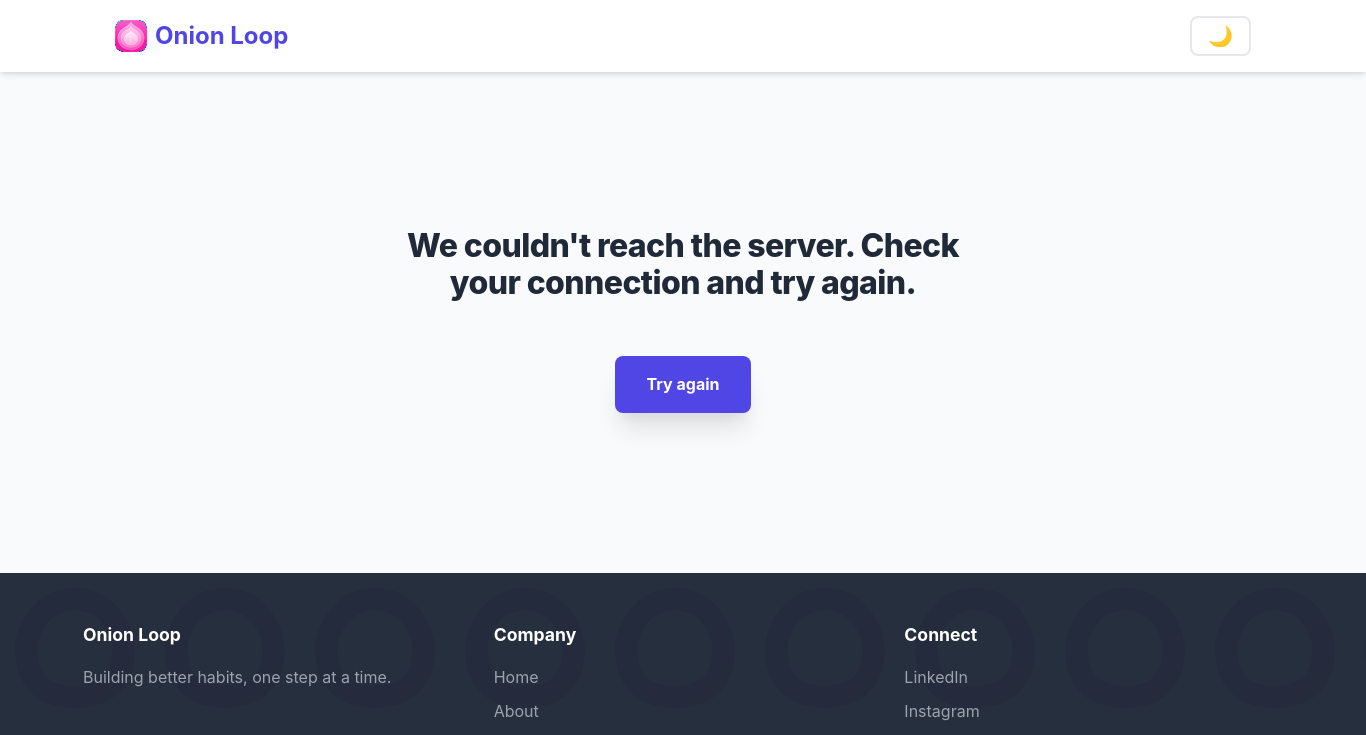
Test: a catalogue that will not load replaces the grid, and can be retried
This screenshot has width=1366, height=735.
(page scrolled)
Expected: the heading "couldn't reach the server" is shown, left=407, top=226, right=959, bottom=302
Expected: the heading "Skills" is not shown
Click the button "Try again".
click(683, 384)  # box left=614, top=356, right=752, bottom=413
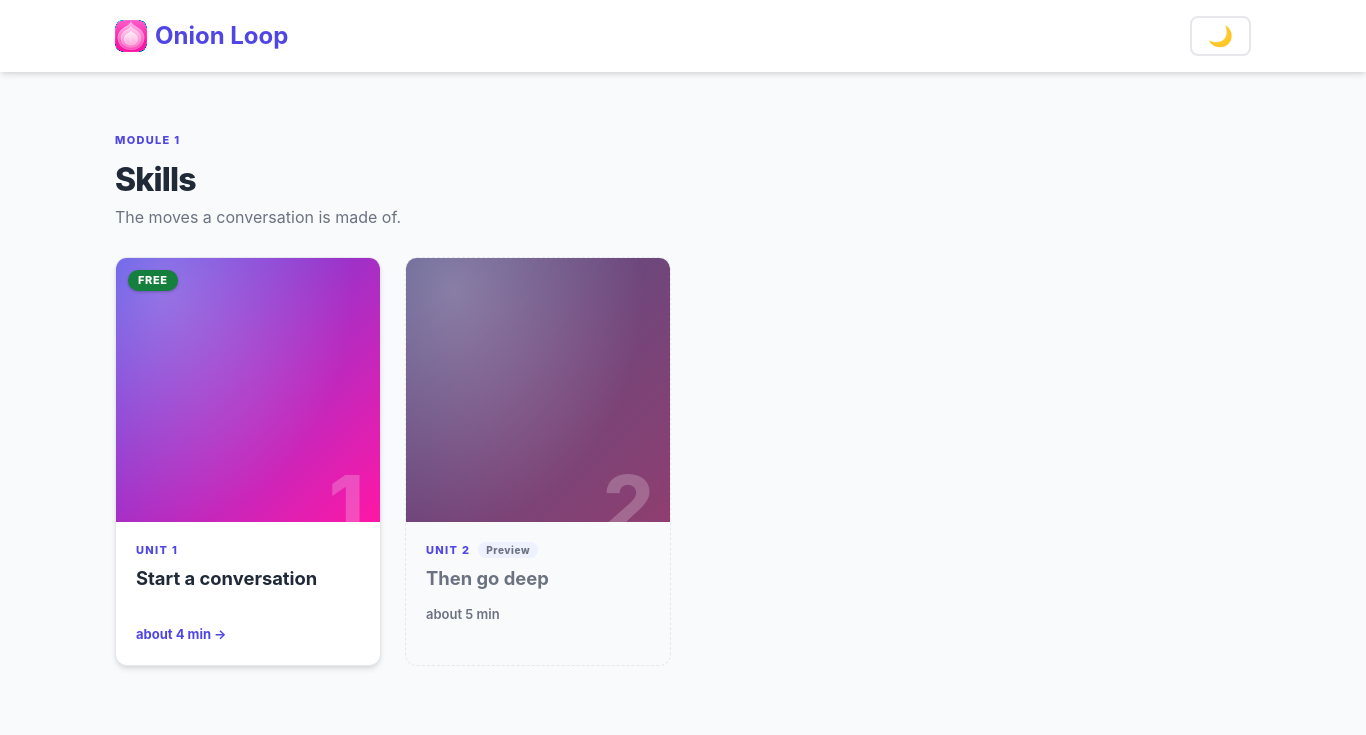
Expected: the button "UNIT 1 Start a conversation Free about 4 min →" is shown, left=115, top=257, right=381, bottom=666
